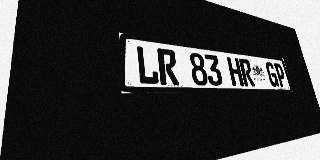3: (204, 54, 223, 86)
8: (188, 52, 209, 86)
G: (265, 62, 279, 87)
H: (227, 57, 244, 86)
L: (135, 45, 160, 85)
P: (273, 63, 287, 87)
R: (157, 48, 179, 85), (239, 58, 255, 86)
